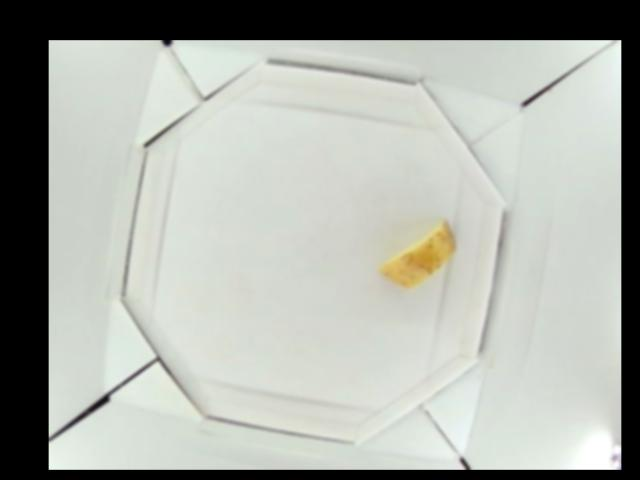Potato: (382, 220, 455, 289)
